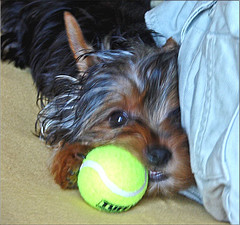tennis ball: (76, 144, 150, 215)
